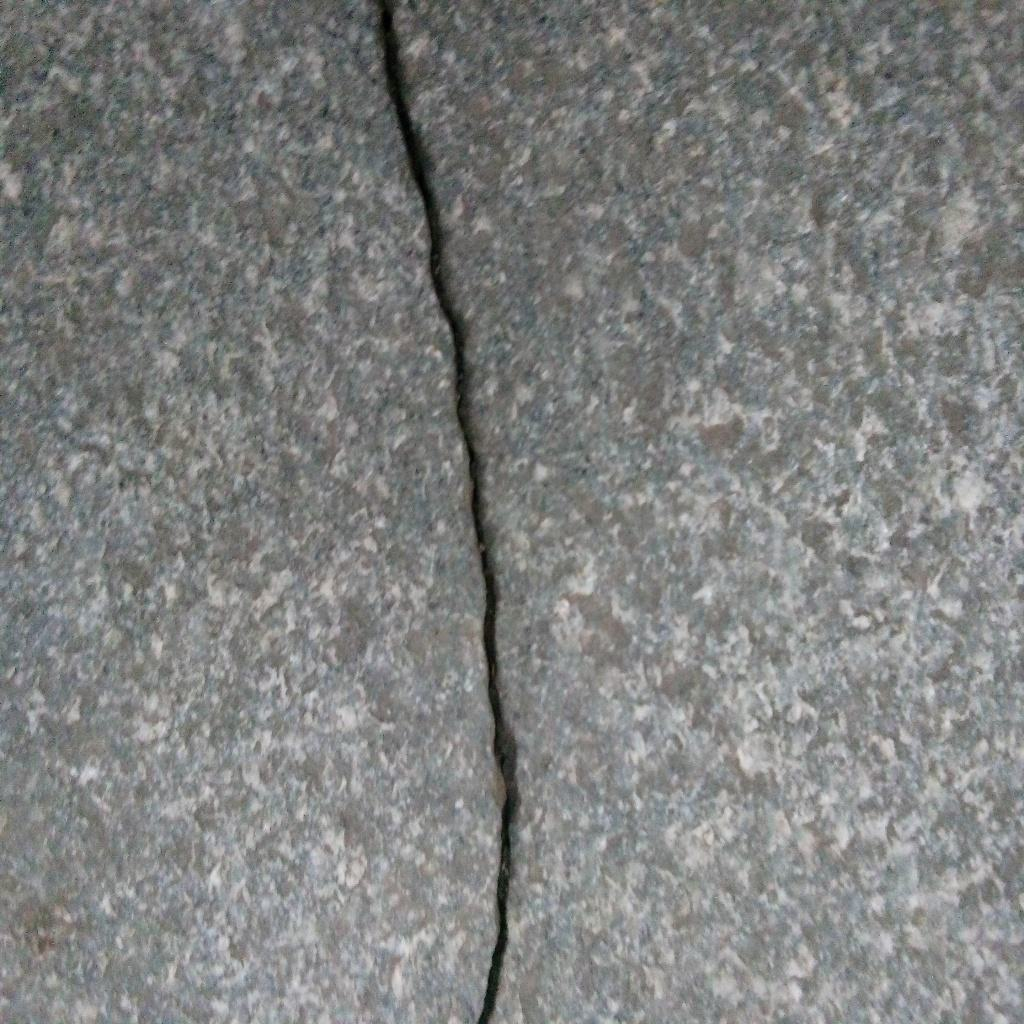Crack: (377, 1, 522, 1024)
